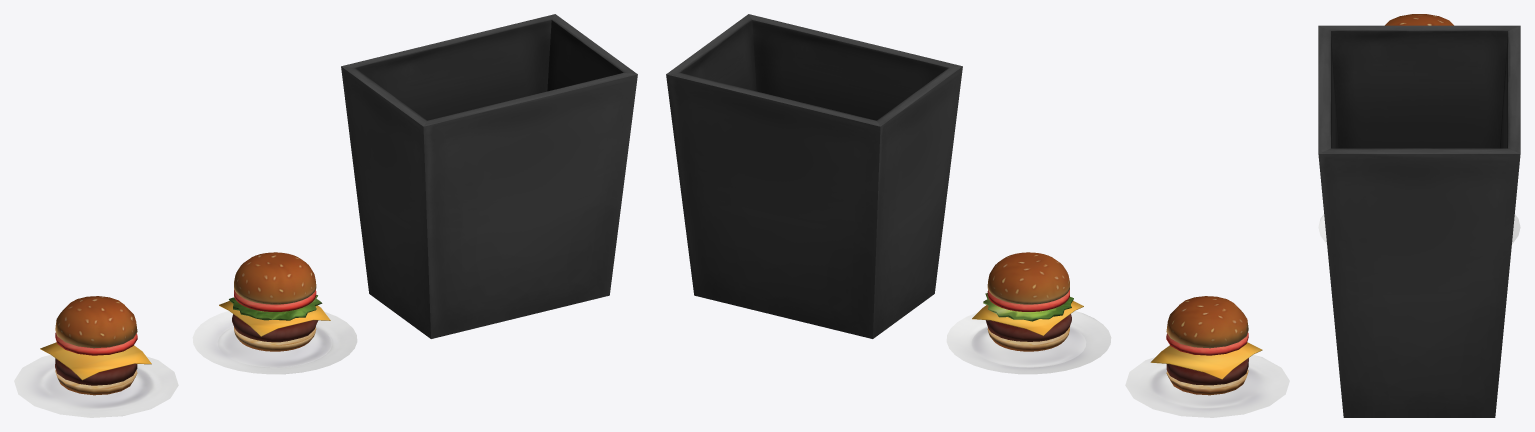
Rendered from Modular Food.fbx.
3 renders of one model, left to right at view 1: azimuth 30°, elevation 25°; view 2: azimuth 150°, elevation 25°; view 3: azimuth 270°, elevation 25°, orthographic. The views are drawn at different scales.
Visible parts, largest first — view 1: Trash, Plate, Plate Low, Bun Top, Bun Top Low, Cheese Low, Burger, Cheese, Burger Low, Lettuce, Bun Bottom, Bun Bottom Low (+2 smaller); view 2: Trash, Plate, Plate Low, Bun Top, Bun Top Low, Cheese Low, Burger, Cheese, Burger Low, Lettuce, Bun Bottom, Bun Bottom Low (+2 smaller); view 3: Trash, Bun Top Low, Plate.
Boxes of the visible parts, x1,y1,x2,y2 form: Trash: (341,14,637,338); Plate: (192,311,357,374); Plate Low: (14,355,178,417); Bun Top: (234,252,316,304); Bun Top Low: (55,296,137,348); Cheese Low: (40,342,151,380); Burger: (232,314,318,342); Cheese: (219,301,330,336); Burger Low: (55,358,137,385); Lettuce: (229,295,322,320); Bun Bottom: (234,326,316,351); Bun Bottom Low: (55,370,137,395); Trash: (666,14,962,338); Plate: (946,311,1111,374); Plate Low: (1125,355,1289,417); Bun Top: (987,252,1069,304); Bun Top Low: (1166,296,1248,348); Cheese Low: (1150,342,1262,379); Burger: (985,314,1071,341); Cheese: (972,301,1083,335); Burger Low: (1166,358,1248,385); Lettuce: (983,293,1073,321); Bun Bottom: (987,327,1069,351); Bun Bottom Low: (1166,369,1248,395); Trash: (1318,25,1520,417); Bun Top Low: (1385,14,1453,25); Plate: (1318,214,1520,243).
Bounding box in the file's own units: 160 × 60 × 40.
Materials: 1 (1 with a texture image).
